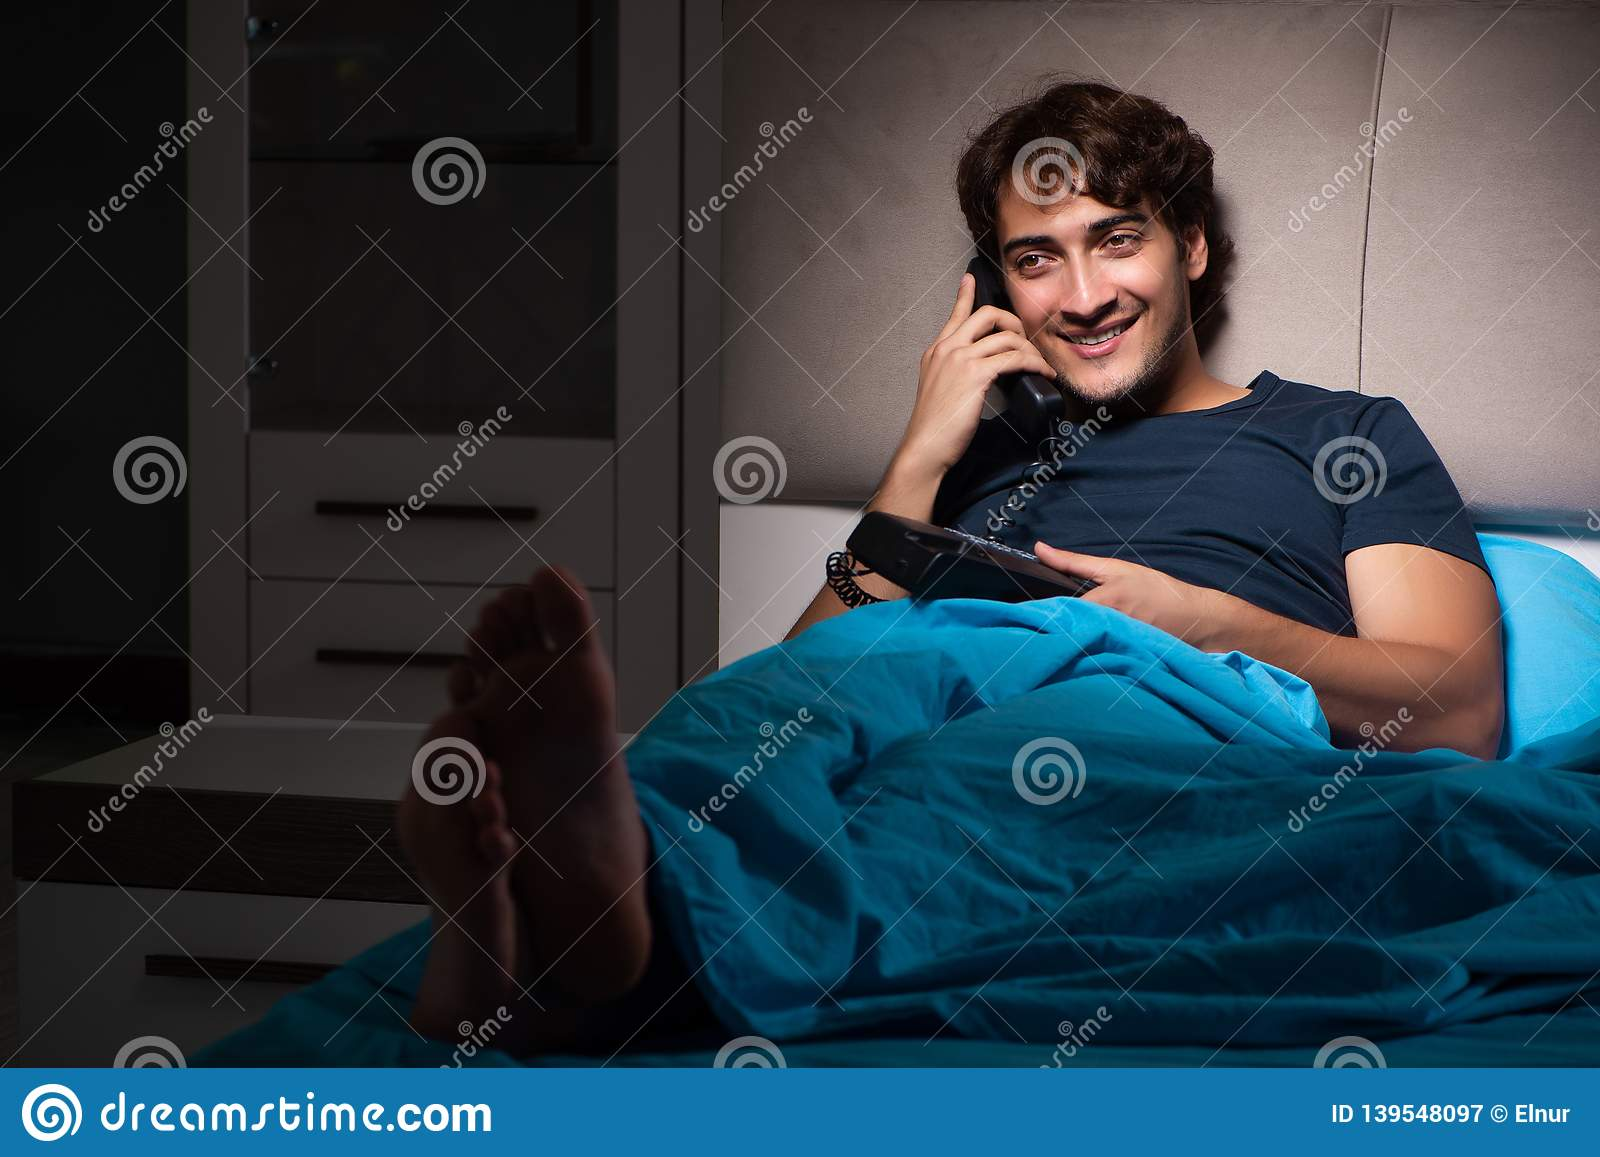phone: (960, 242, 1070, 447)
talk: (889, 198, 1170, 488)
